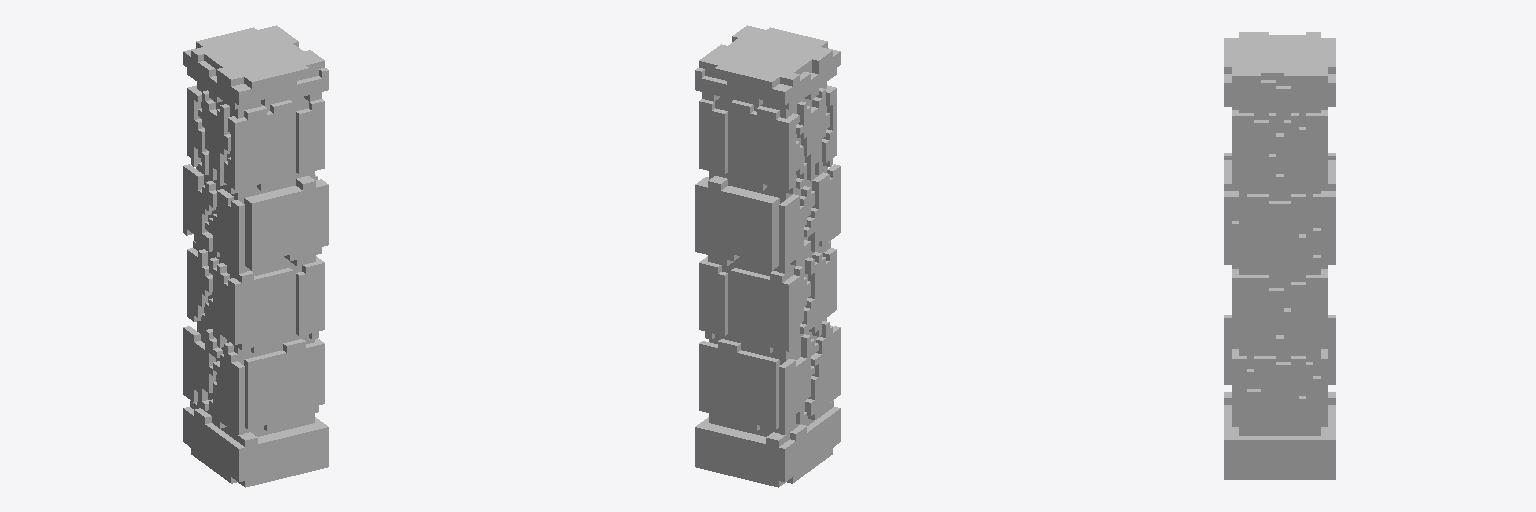
File: WallCorner.obj
The picture shows the model from 3 angles: view 1: azimuth 30°, elevation 25°; view 2: azimuth 150°, elevation 25°; view 3: azimuth 270°, elevation 25°; orthographic projection.
Parts seen in each view (by area): view 1: object 1; view 2: object 1; view 3: object 1.
Boxes of the visible parts, <box> form: object 1: <box>183,25,328,487</box>; object 1: <box>695,25,840,487</box>; object 1: <box>1224,32,1335,479</box>.
Size of the model in its own units: 1.4 by 6 by 1.5.